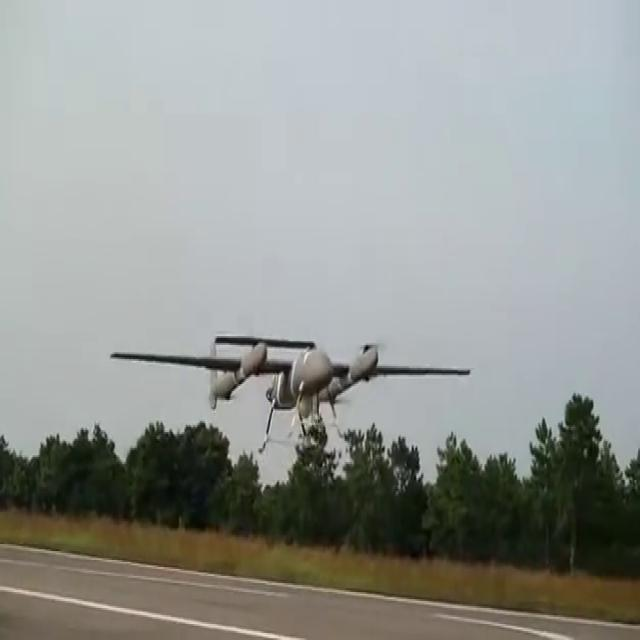iha: (111, 350, 473, 400)
